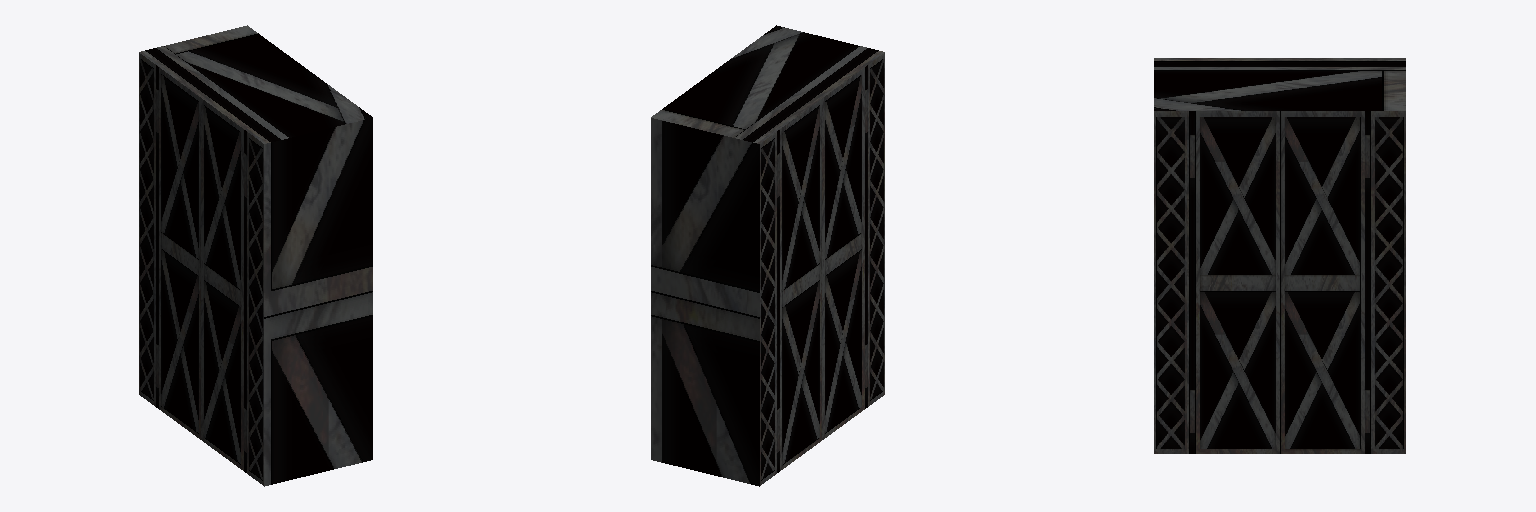
The picture shows the model from 3 angles: view 1: azimuth 30°, elevation 25°; view 2: azimuth 150°, elevation 25°; view 3: azimuth 270°, elevation 25°; orthographic projection.
Parts seen in each view (by area): view 1: Cube; view 2: Cube; view 3: Cube.
Part boxes in pixels (x1,y1,x2,y2): Cube: (139,25,372,486); Cube: (651,25,884,486); Cube: (1154,58,1405,453).
Bounding box in the file's own units: 2 × 6 × 4.
1 materials, 1 textured.